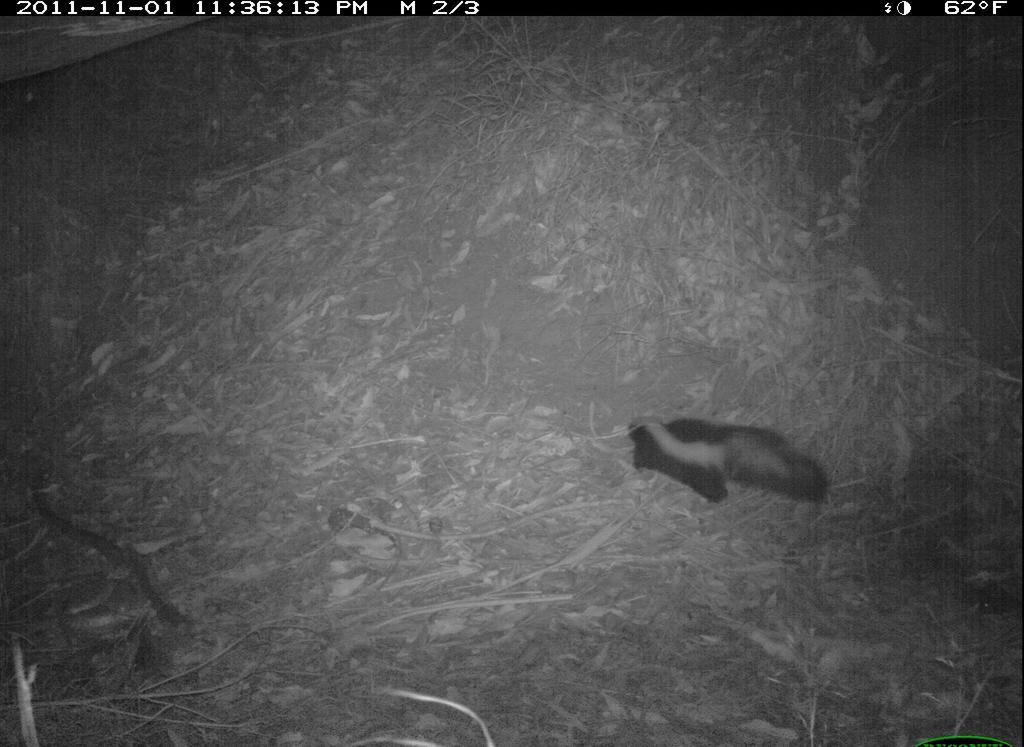skunk: (621, 399, 844, 519)
